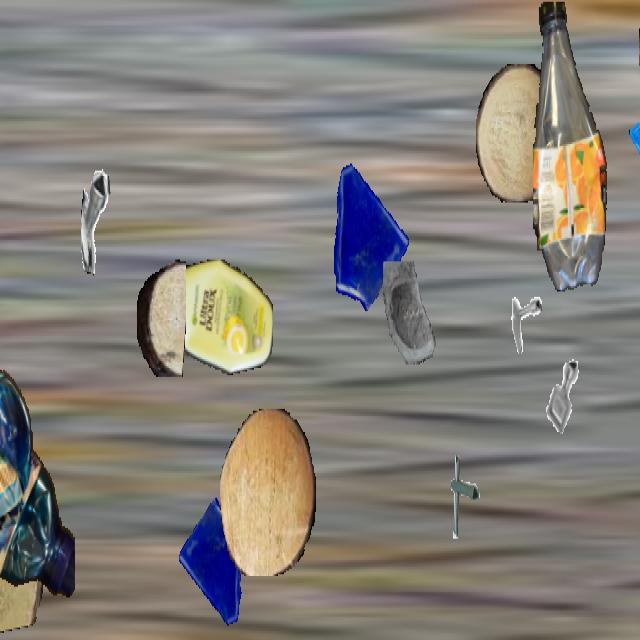glass: (321, 151, 411, 311), (177, 498, 255, 636), (377, 262, 445, 382), (629, 89, 640, 199)
metal: (81, 169, 143, 279), (535, 347, 591, 446), (436, 450, 488, 542), (500, 277, 542, 352)
plastic: (533, 2, 609, 290), (0, 366, 74, 608), (160, 259, 272, 377)
wood: (220, 409, 316, 576), (476, 64, 558, 203), (0, 404, 47, 638), (137, 258, 185, 375), (639, 2, 640, 105)
